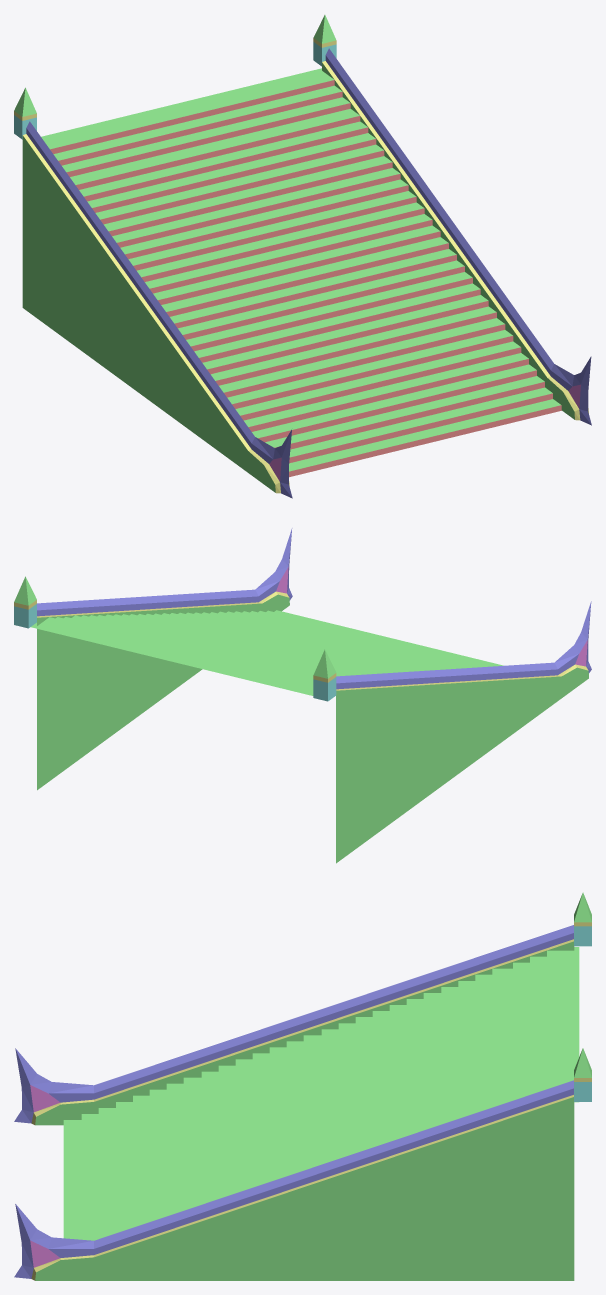
File: O_DE_CH_mainstair.gltf
3 views of the same model, one above another, from view 1: azimuth 30°, elevation 25°; view 2: azimuth 150°, elevation 25°; view 3: azimuth 270°, elevation 25° (orthographic). The views are drawn at different scales.
Visible parts, largest first — view 1: O_DE_CH_mainstair; view 2: O_DE_CH_mainstair; view 3: O_DE_CH_mainstair.
Part boxes in pixels (x1=…): O_DE_CH_mainstair: x1=14, y1=15, x2=591, y2=498; O_DE_CH_mainstair: x1=14, y1=528, x2=591, y2=863; O_DE_CH_mainstair: x1=14, y1=892, x2=591, y2=1280.
Size of the model in its own units: 4.63 by 3.04 by 6.92.
